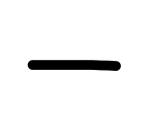mult: (26, 59, 121, 74)
